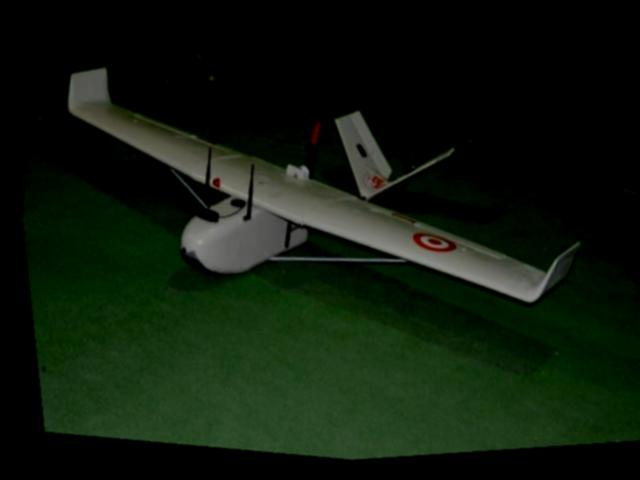iha: (24, 30, 622, 361)
